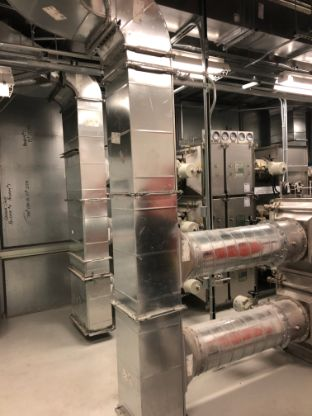Duct: (95, 3, 189, 415), (13, 1, 310, 64), (49, 73, 115, 346)
